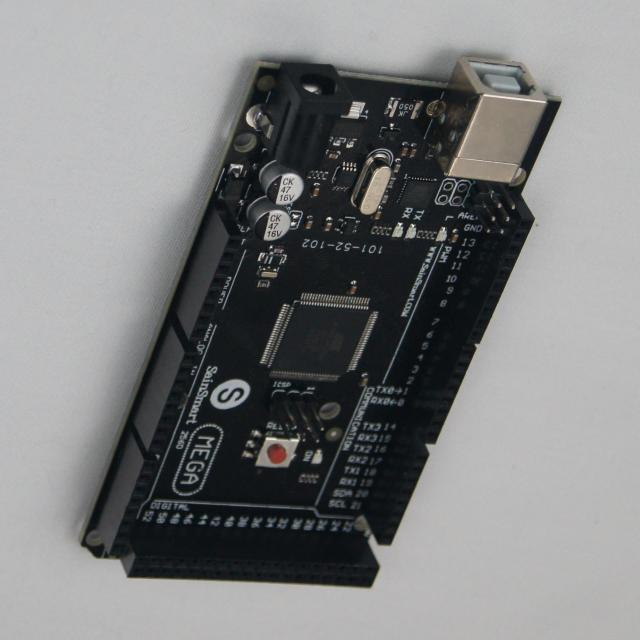Arduino Mega 2560 -Black-: (84, 56, 560, 587)
